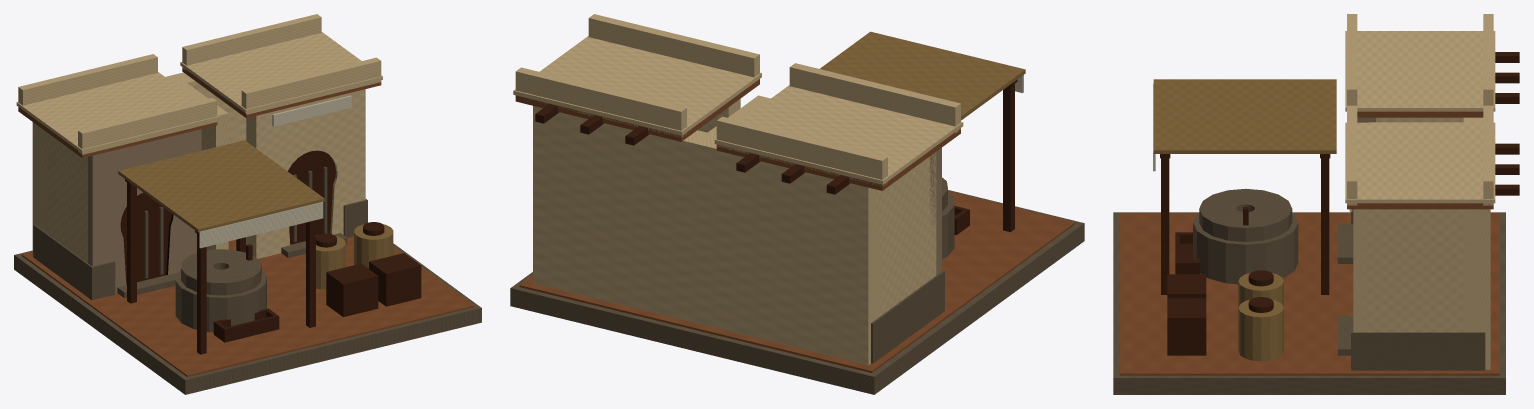
File: Berber_Mill_Age3.fbx
The picture shows the model from 3 angles, left to right: view 1: azimuth 30°, elevation 25°; view 2: azimuth 150°, elevation 25°; view 3: azimuth 270°, elevation 25°; orthographic projection. The views are drawn at different scales.
Visible parts, largest first — view 1: courtyard_floor, woven_shade, courtyard_foundation, store_front.001, store_front, lime_roof_cap.001, lime_roof_cap, store_westwall, roof_front_parapet.001, roof_front_parapet, corner_stone, roof_back_parapet.001 (+21 smaller); view 2: store_backwall, courtyard_foundation, courtyard_floor, lime_roof_cap, lime_roof_cap.001, woven_shade, store_westwall, roof_back_parapet, roof_back_parapet.001, roof_front_parapet, roof_front_parapet.001, corner_stone (+5 smaller); view 3: courtyard_floor, woven_shade, store_eastwall, lime_roof_cap.001, lime_roof_cap, courtyard_foundation, corner_stone.001, millstone_bed, rotary_runner, store_backwall, grain_sack.001, raised_storage_bin.001 (+17 smaller).
Boxes of the visible parts, bbox=[...] form: courtyard_floor: bbox=[21, 236, 474, 376]; woven_shade: bbox=[118, 140, 324, 232]; courtyard_foundation: bbox=[14, 243, 481, 394]; store_front.001: bbox=[246, 89, 365, 258]; store_front: bbox=[88, 129, 201, 293]; lime_roof_cap.001: bbox=[180, 32, 382, 113]; lime_roof_cap: bbox=[16, 72, 219, 152]; store_westwall: bbox=[38, 130, 87, 262]; roof_front_parapet.001: bbox=[241, 57, 381, 114]; roof_front_parapet: bbox=[78, 97, 217, 154]; corner_stone: bbox=[33, 224, 115, 300]; roof_back_parapet.001: bbox=[182, 14, 321, 70]; store_backwall: bbox=[533, 106, 882, 365]; courtyard_foundation: bbox=[510, 190, 1084, 394]; courtyard_floor: bbox=[519, 191, 1075, 372]; lime_roof_cap: bbox=[714, 85, 963, 184]; lime_roof_cap.001: bbox=[513, 36, 761, 135]; woven_shade: bbox=[820, 31, 1025, 120]; store_westwall: bbox=[875, 152, 936, 314]; roof_back_parapet: bbox=[716, 116, 887, 186]; roof_back_parapet.001: bbox=[515, 67, 686, 137]; roof_front_parapet: bbox=[789, 63, 960, 133]; roof_front_parapet.001: bbox=[588, 14, 759, 83]; corner_stone: bbox=[871, 270, 944, 363]; courtyard_floor: bbox=[1119, 213, 1499, 375]; woven_shade: bbox=[1153, 79, 1336, 153]; store_eastwall: bbox=[1363, 209, 1476, 332]; lime_roof_cap.001: bbox=[1345, 122, 1495, 203]; lime_roof_cap: bbox=[1345, 31, 1495, 111]; courtyard_foundation: bbox=[1113, 212, 1505, 394]; corner_stone.001: bbox=[1351, 320, 1485, 370]; millstone_bed: bbox=[1193, 213, 1298, 284]; rotary_runner: bbox=[1199, 188, 1292, 241]; store_backwall: bbox=[1463, 117, 1490, 369]; grain_sack.001: bbox=[1238, 299, 1283, 361]; raised_storage_bin.001: bbox=[1167, 298, 1206, 355].
Size of the model in its own units: 386 by 229 by 393.
6 materials, 6 textured.
